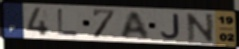4: (26, 6, 51, 37)
7: (91, 8, 117, 39)
A: (120, 11, 152, 40)
J: (160, 13, 182, 40)
L: (56, 8, 80, 37)
N: (185, 13, 216, 44)
